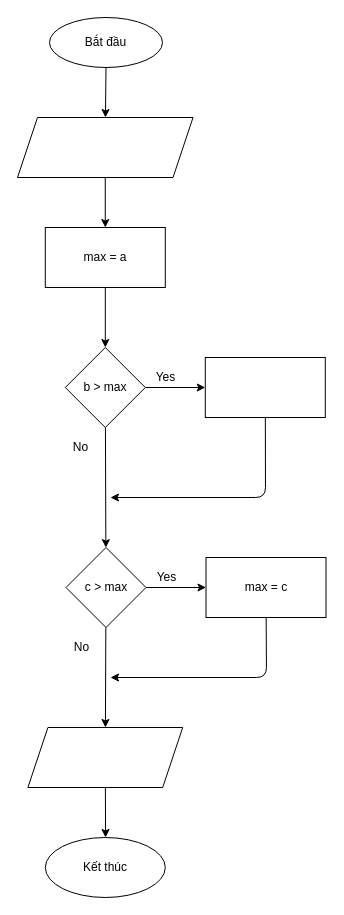
The diagram is 344 pixels wide and 915 high, and some of its shapes have lost their labels. Each missing label, with the centre of its shape:
max = b: (x=264, y=387)
Nhập 3 số nguyên a, b, c: (x=104, y=147)
Xuất giá trị max: (x=105, y=757)
